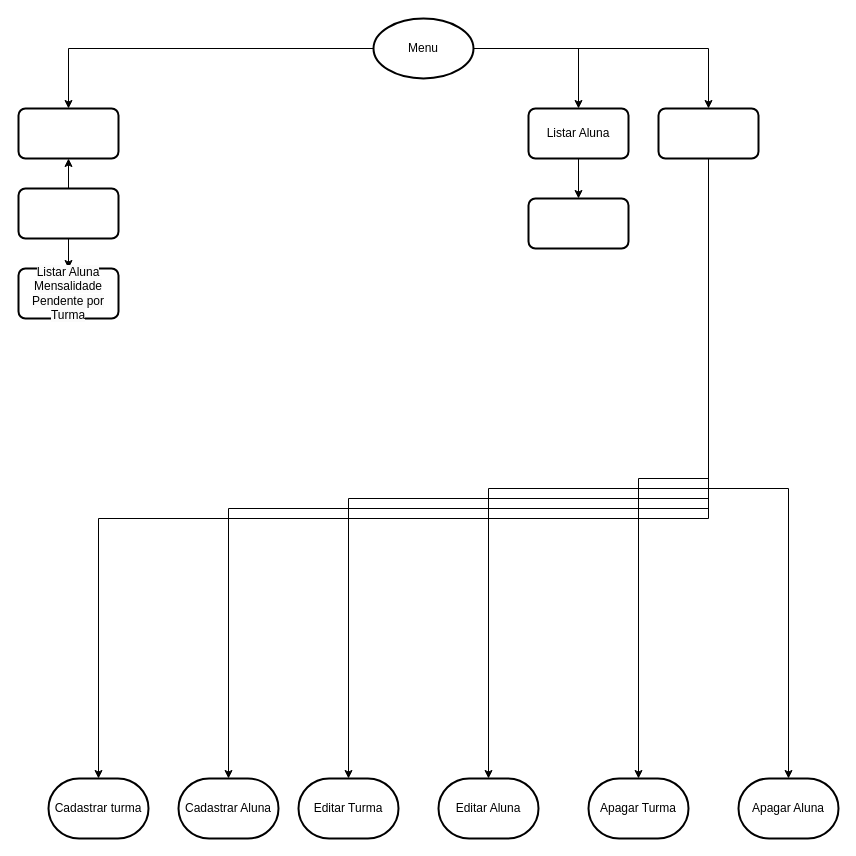
This 856x856 diagram has some shape labels left out. The centre of each missing label's shape, as x and y in pixels:
Editar cadastro: pixel 708 133
Listar Aluna Mensalidade Pendente: pixel 578 223
Listar Aluna por Turma: pixel 68 213
Listar Turma: pixel 68 133
